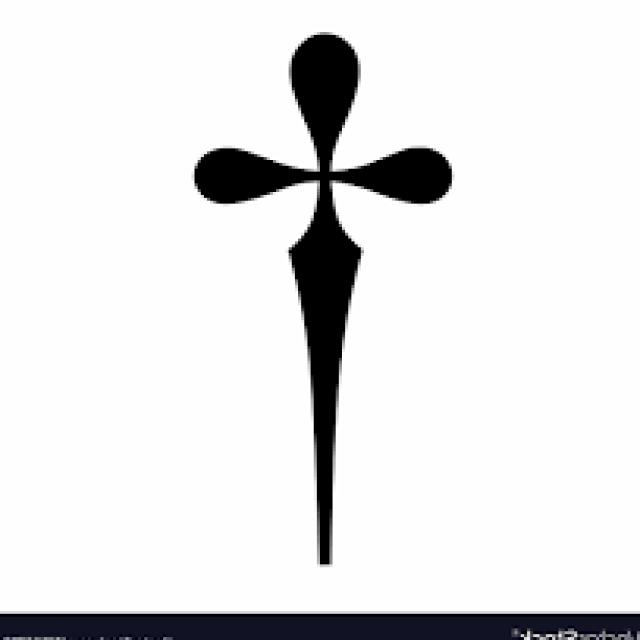Gun: (209, 26, 439, 578)
